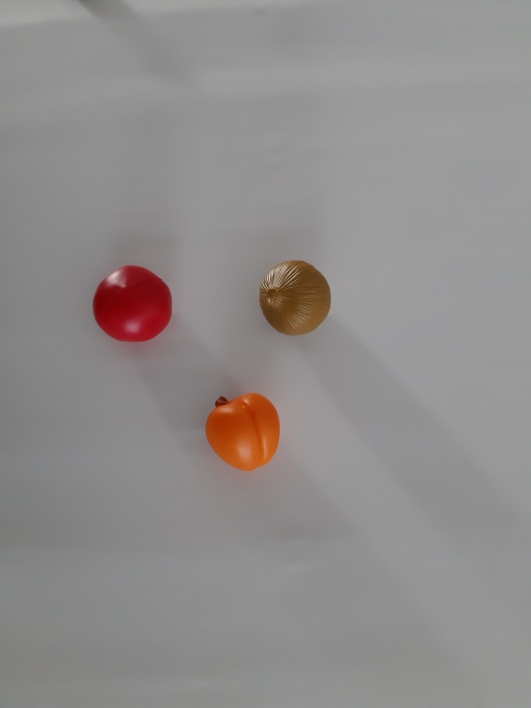apricot: (192, 376, 294, 480)
onion: (242, 248, 350, 361)
tomato: (70, 253, 199, 352)
